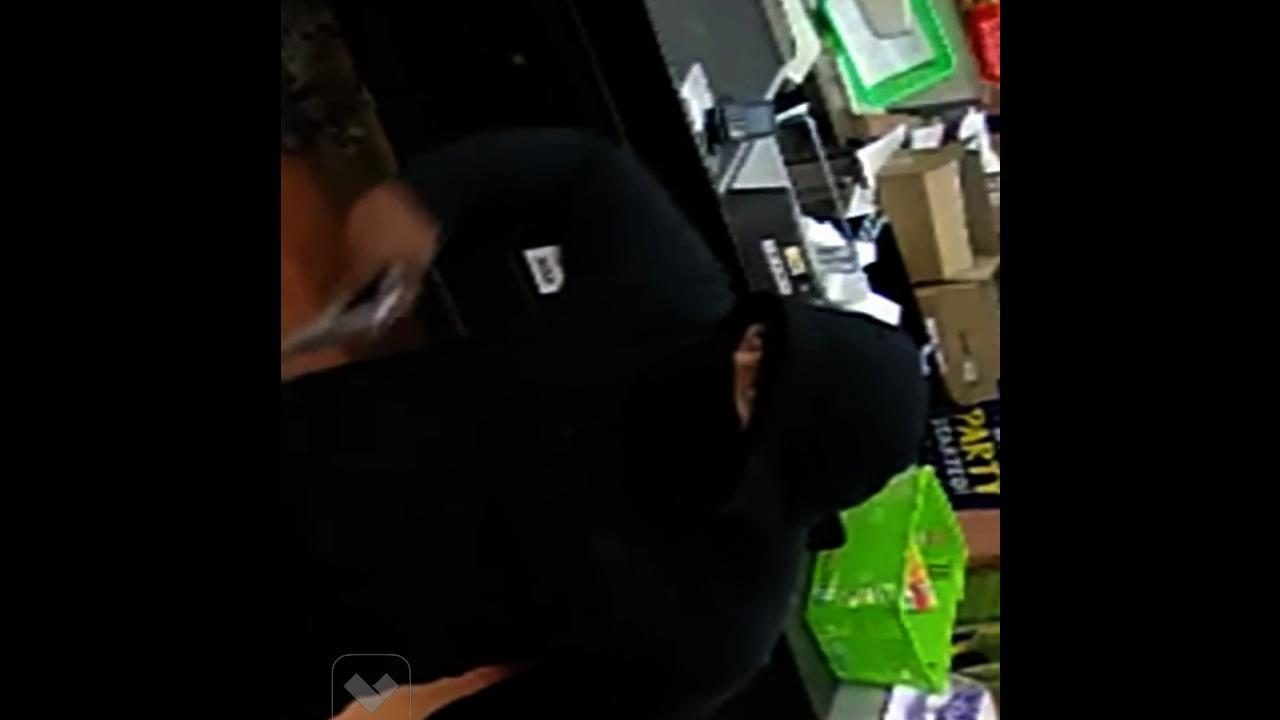gun: (280, 262, 420, 380)
